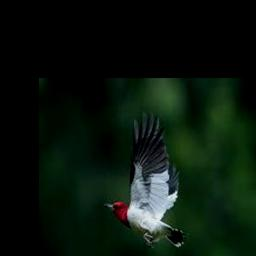Woodpecker: (104, 111, 188, 248)
